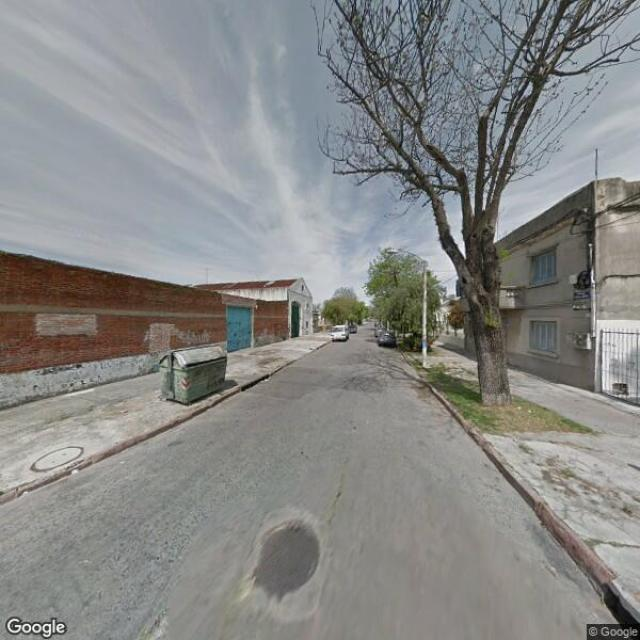garbage container: (153, 341, 235, 414)
